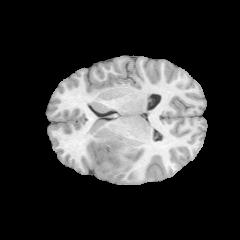glioma: (89, 135, 135, 176)
